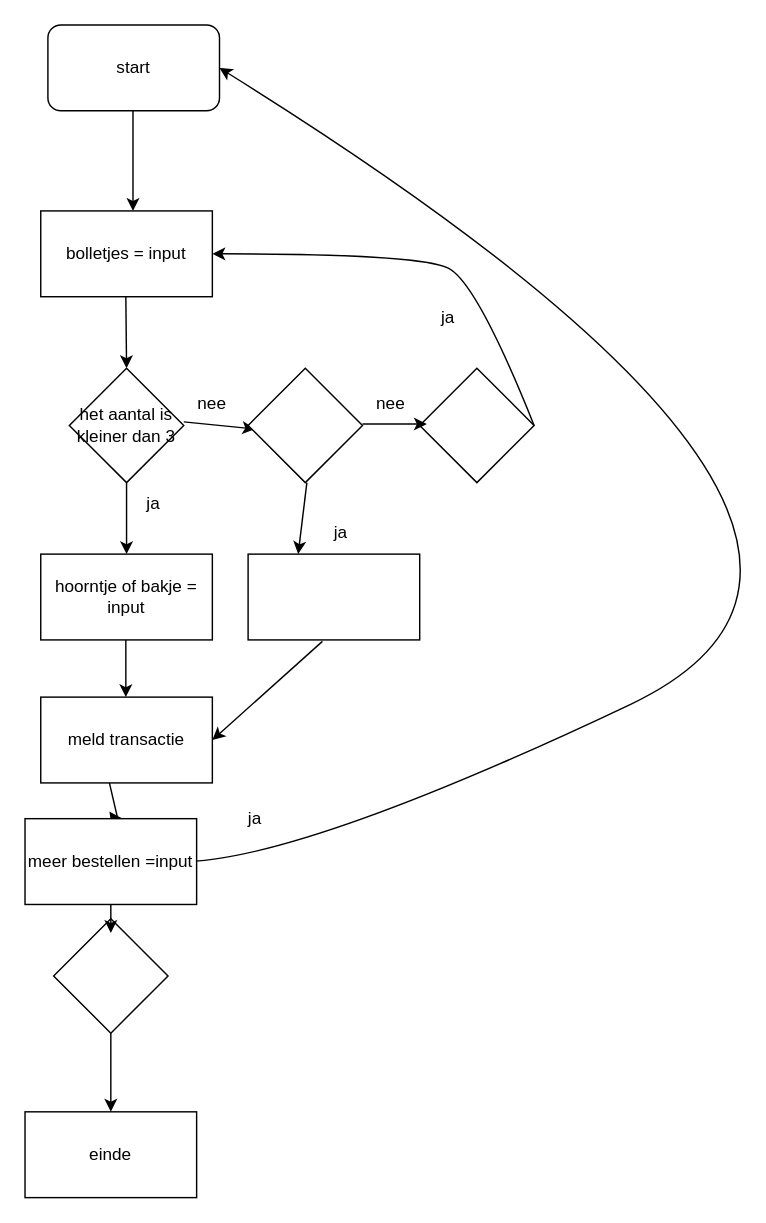
The diagram is 766 pixels wide and 1223 high, and some of its shapes have lost their labels. Here are the shapes that lost their labels. From the top down, the centre of each, then its label:
At point 305,425: "het aantal is kleiner dan 8".
At point 476,425: "het aantal is groter dan 8".
At point 333,596: "wordt bakje".
At point 110,975: "meer bestellen == nee?".
